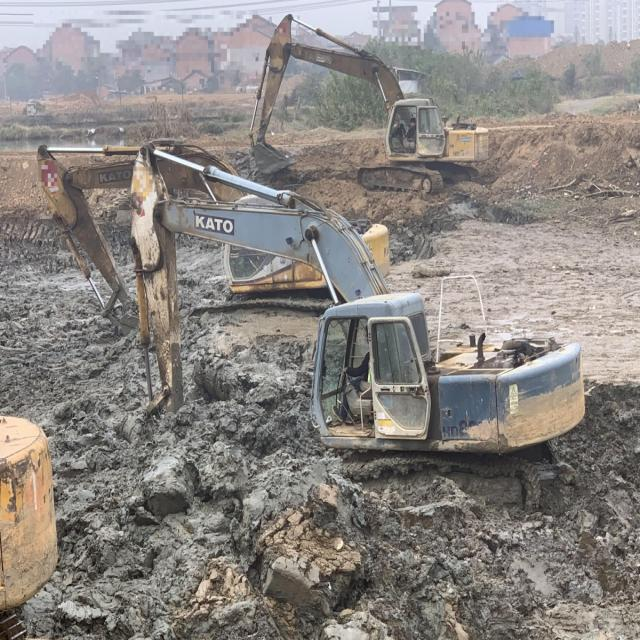excavator: (130, 143, 585, 514), (36, 138, 390, 336), (247, 13, 488, 195), (156, 156, 250, 202)
